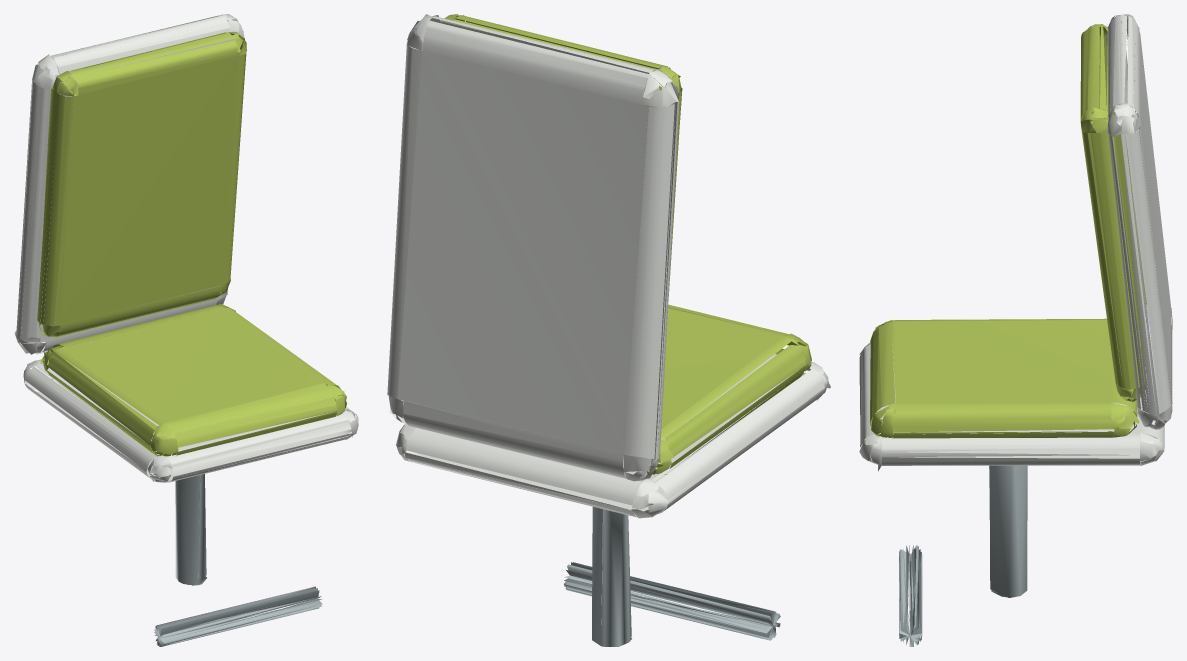
The model's file is angers302_seat.glb.
The picture shows the model from 3 angles, left to right: view 1: azimuth 30°, elevation 25°; view 2: azimuth 150°, elevation 25°; view 3: azimuth 270°, elevation 25°; orthographic projection. The views are drawn at different scales.
Visible parts, largest first — view 1: Seat; view 2: Seat; view 3: Seat.
Boxes of the visible parts, left/top/right/bottom form: Seat: left=14, top=14, right=358, bottom=646; Seat: left=387, top=14, right=830, bottom=646; Seat: left=859, top=14, right=1172, bottom=646.
Bounding box in the file's own units: 0.4617 × 1.08 × 0.561.
